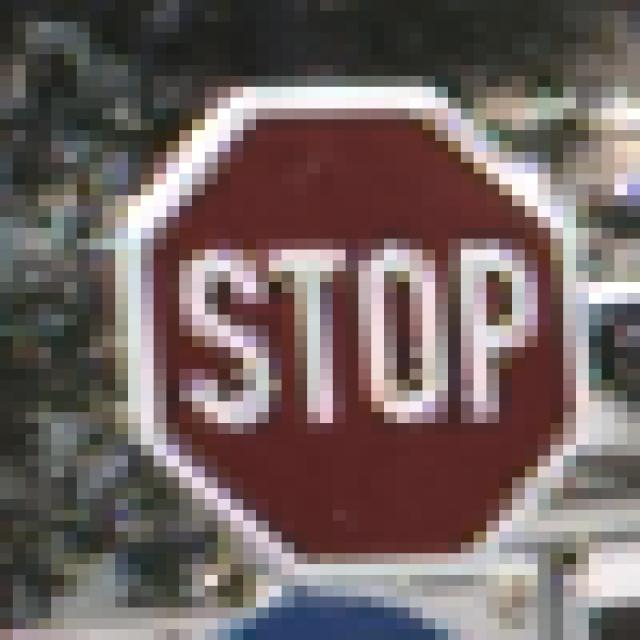STOP: (78, 66, 564, 587)
